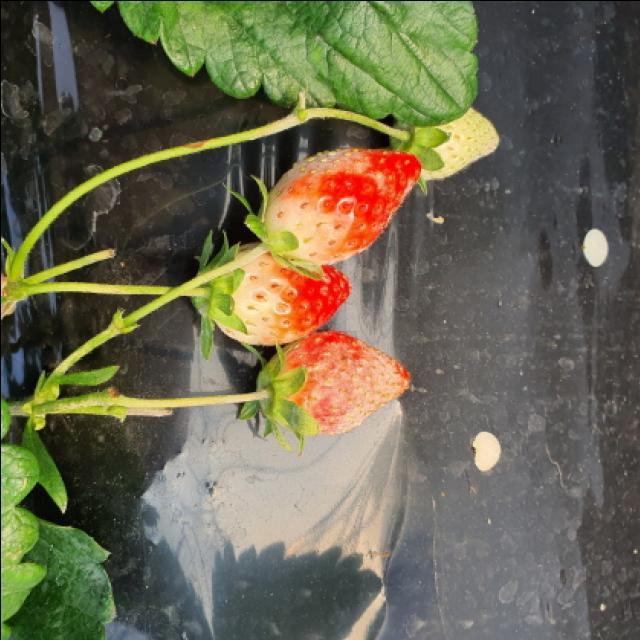Powdery Mildew Fruit: (259, 146, 421, 265), (253, 329, 412, 436)
